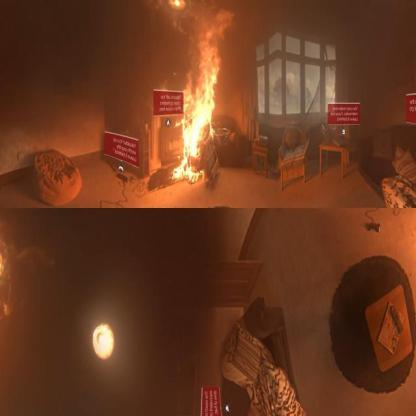Fire: (171, 44, 224, 186)
